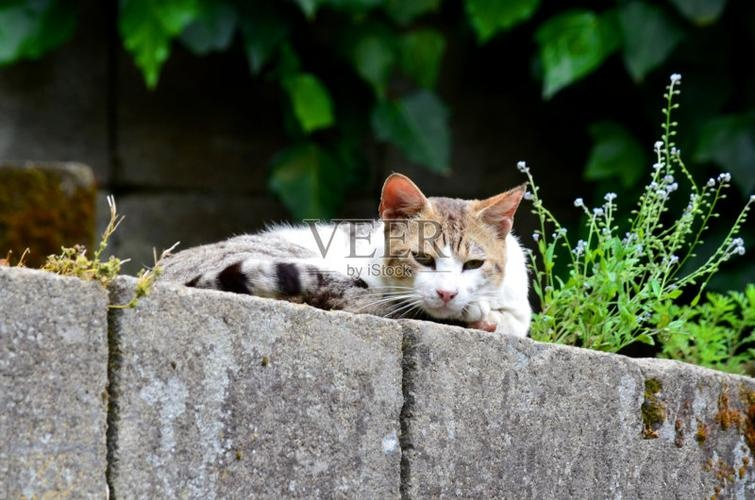cat: (142, 172, 537, 339)
